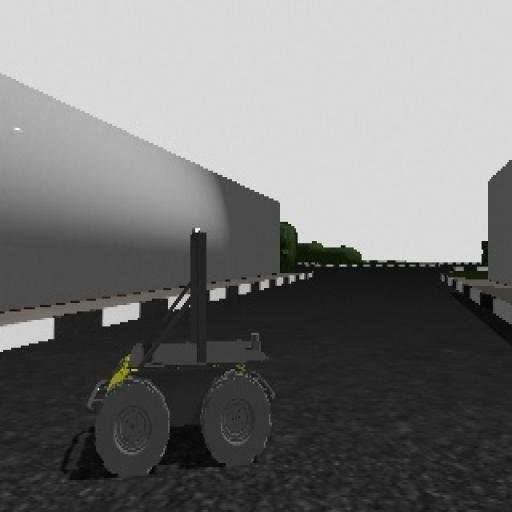huskya200: (54, 214, 298, 500)
